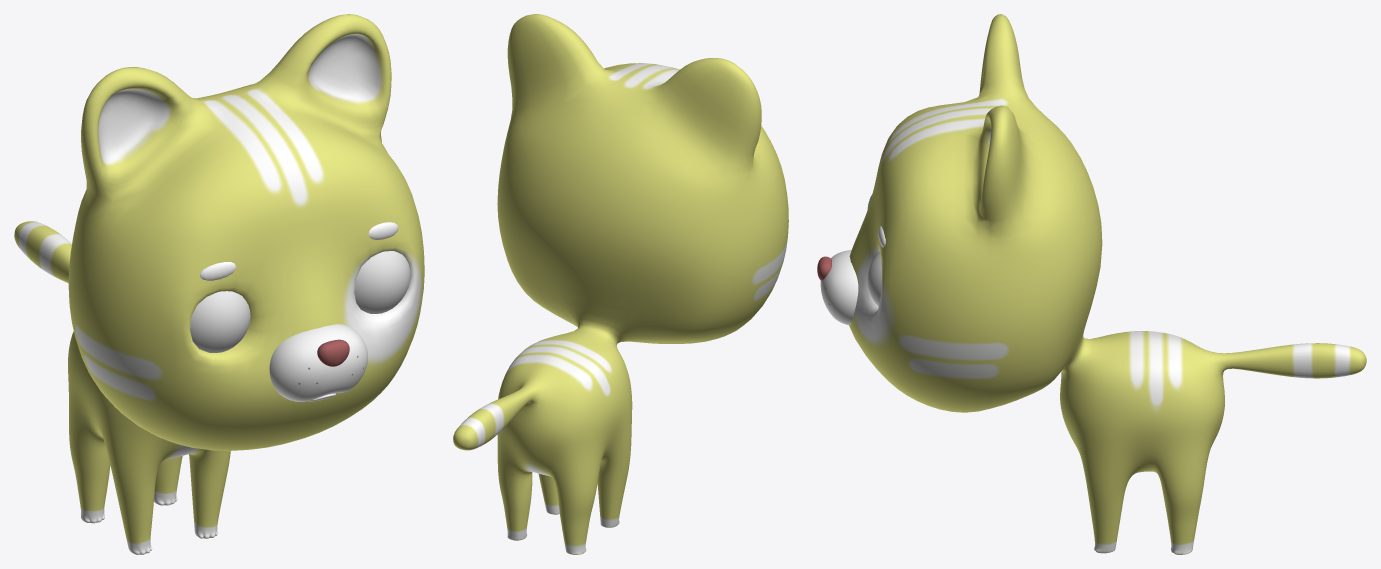
File: uploads_files_4131941_animal_cat1.fbx
3 renders of one model, left to right at view 1: azimuth 30°, elevation 25°; view 2: azimuth 150°, elevation 25°; view 3: azimuth 270°, elevation 25°, orthographic. The views are drawn at different scales.
Parts seen in each view (by area): view 1: body, cat's beak, eyes_R., eyes_L, nose; view 2: body; view 3: body, cat's beak.
Part boxes in pixels (<box>): body: <box>14,14,424,554</box>; cat's beak: <box>269,324,367,401</box>; eyes_R.: <box>190,291,250,352</box>; eyes_L: <box>354,251,410,313</box>; nose: <box>317,339,349,366</box>; body: <box>453,14,788,554</box>; body: <box>849,14,1366,554</box>; cat's beak: <box>820,250,858,325</box>.
Bounding box in the file's own units: 160 × 261 × 275.
Materials: 6 (2 with a texture image).
